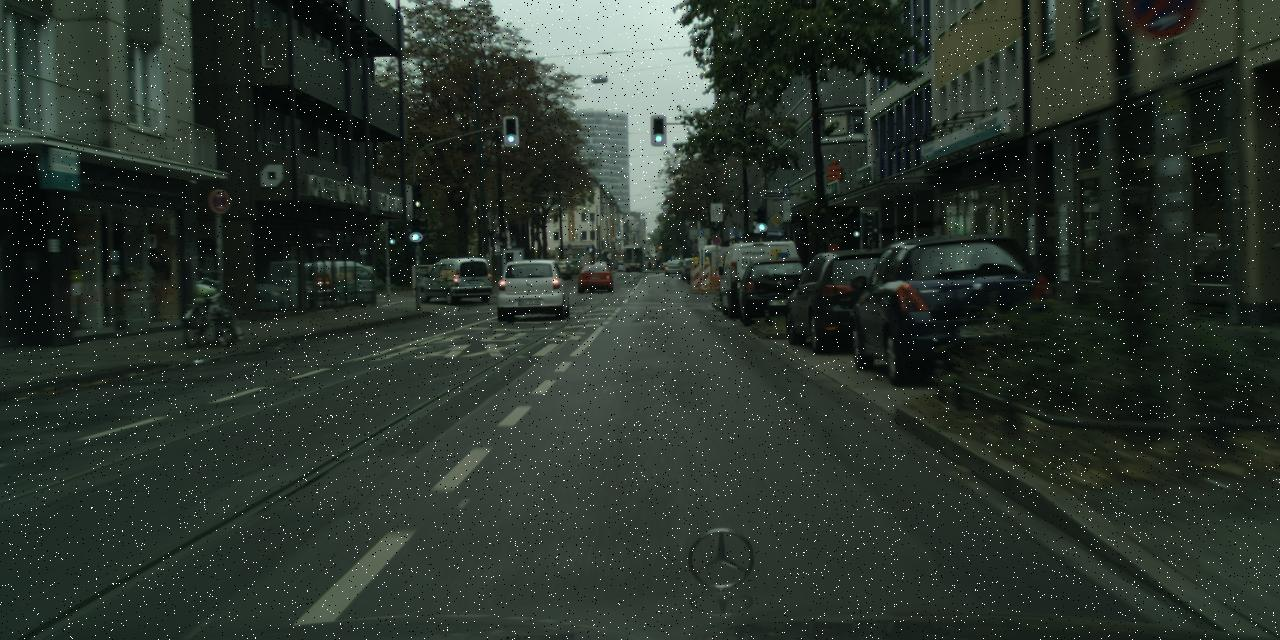ped: (654, 256, 659, 271), (647, 260, 651, 270)
